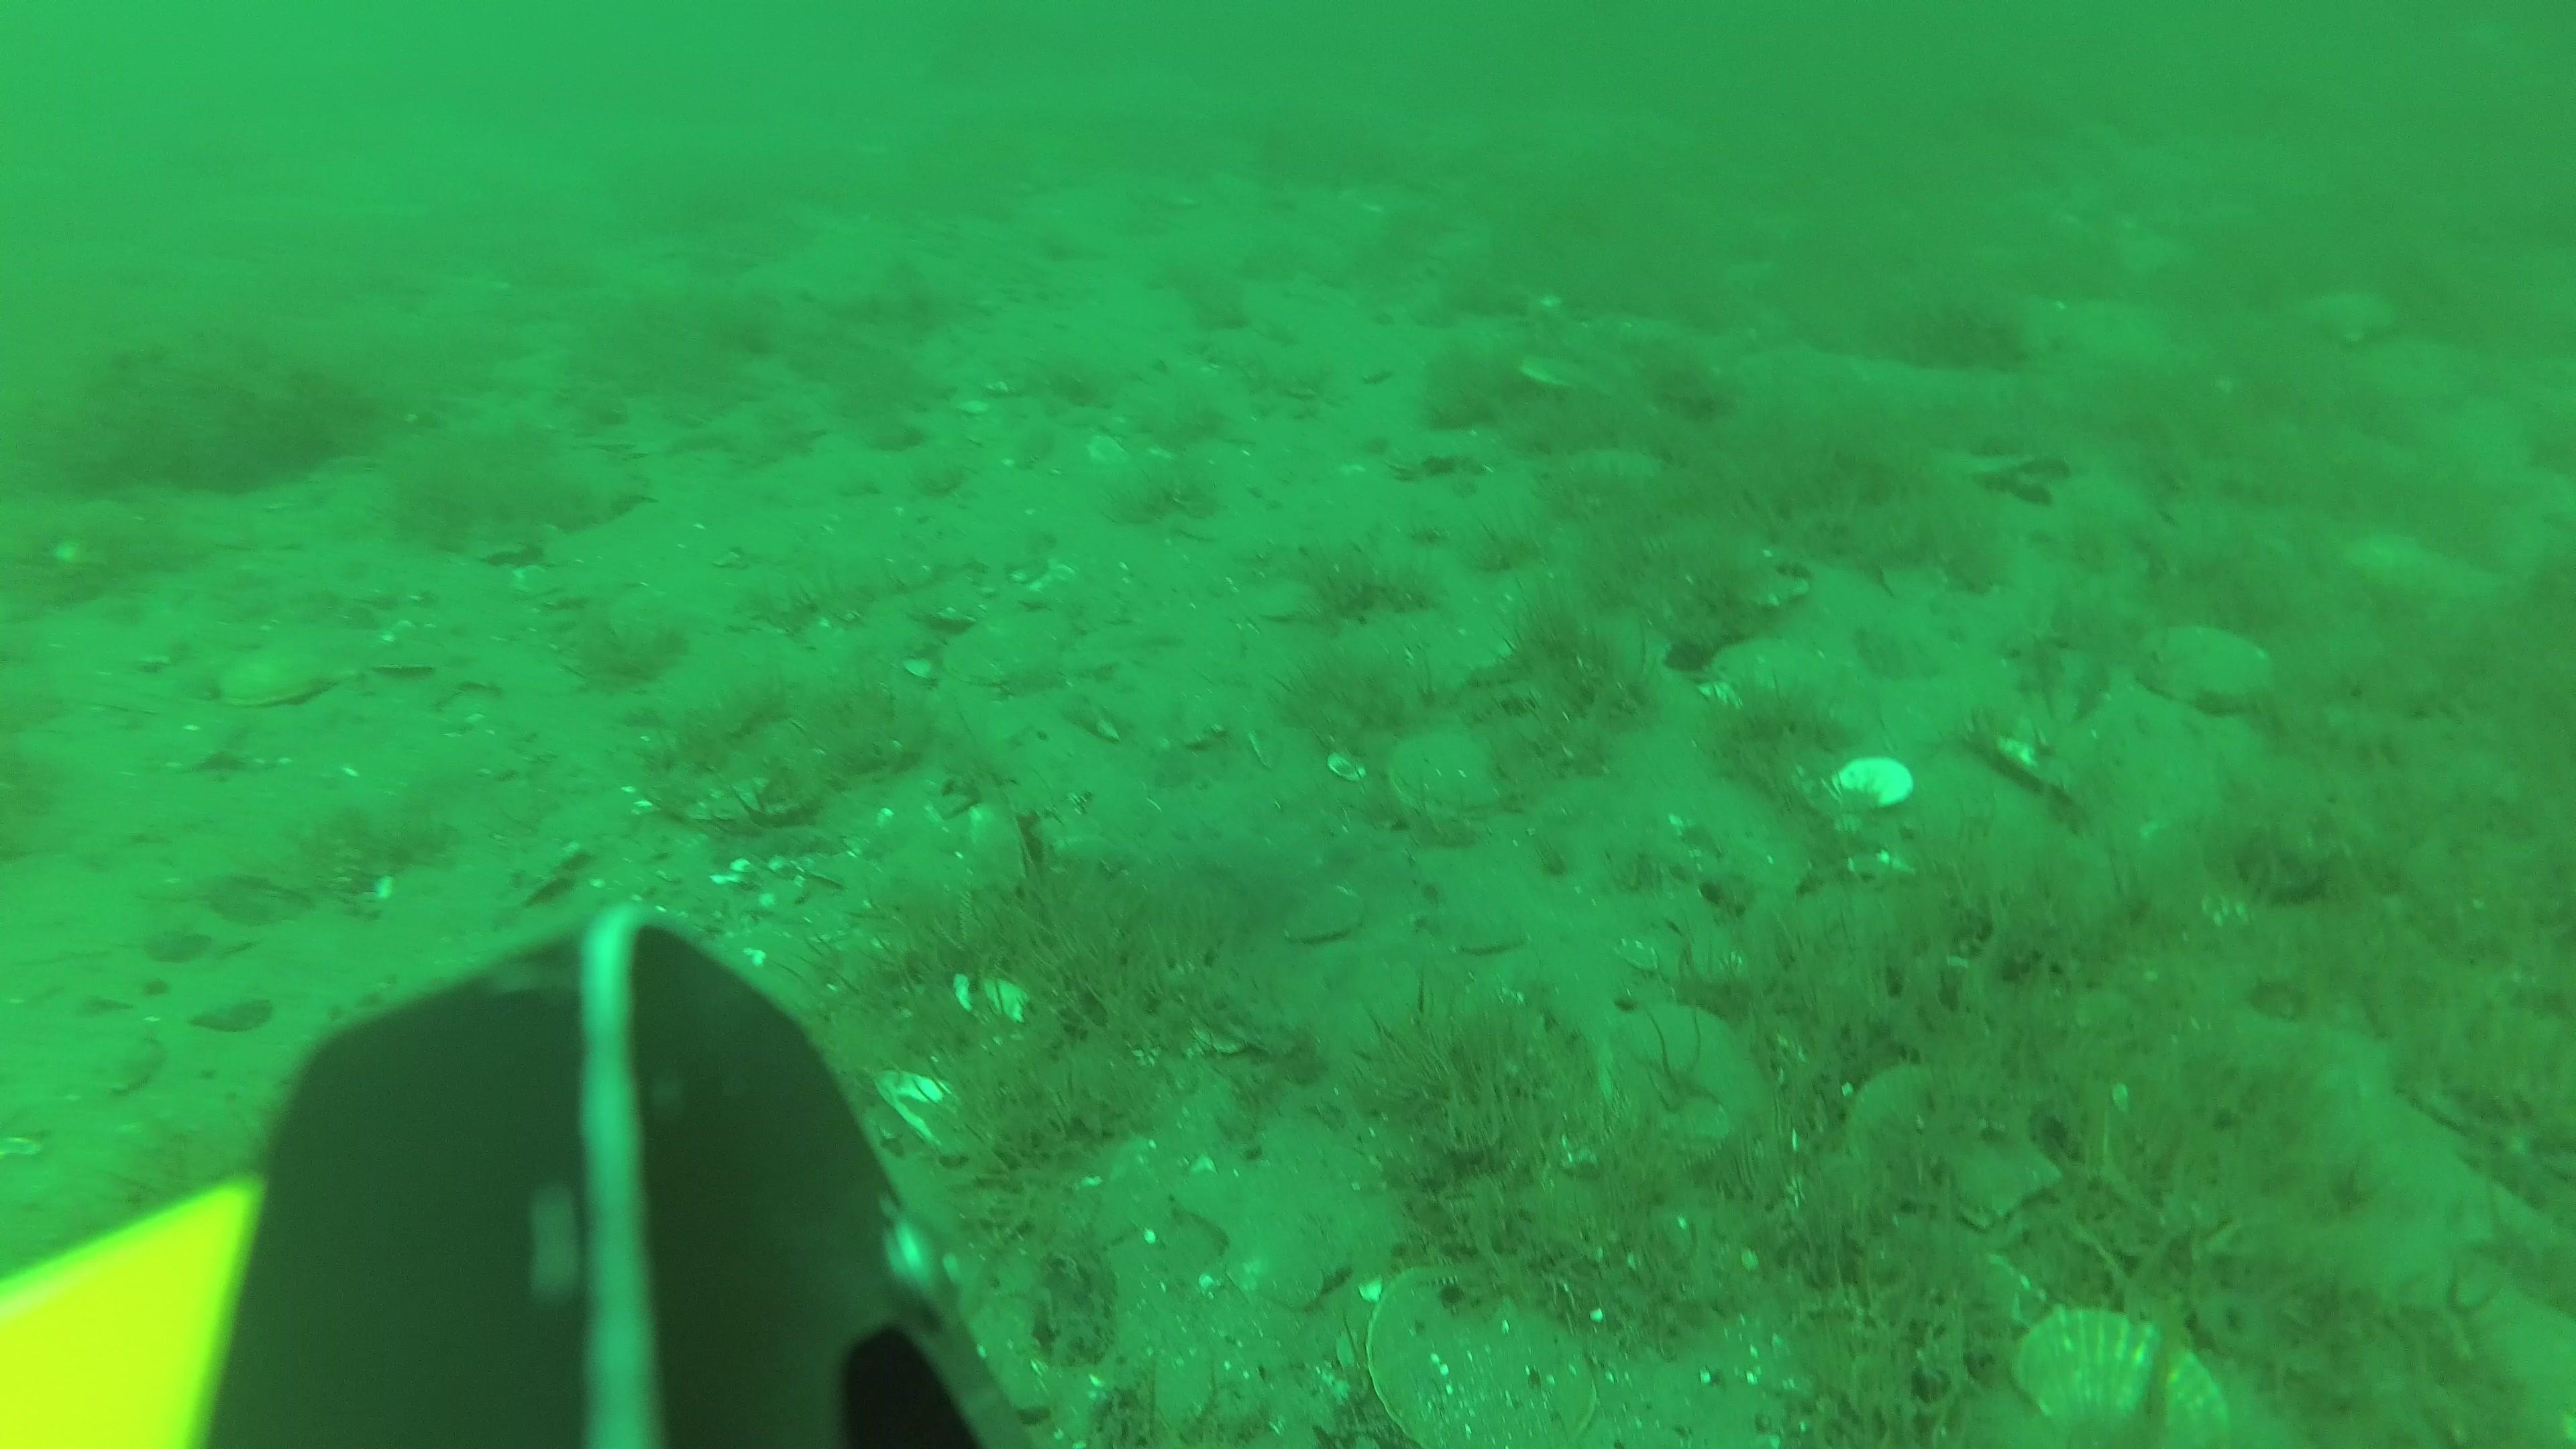scallop: (1373, 1256, 1606, 1449), (1849, 1053, 2070, 1233), (2012, 1297, 2243, 1449), (1638, 515, 1819, 612), (1382, 729, 1523, 830), (1704, 628, 1865, 717), (2137, 614, 2282, 709), (938, 600, 1085, 692), (1612, 915, 1748, 993), (212, 644, 354, 715), (2296, 280, 2406, 352), (1822, 757, 1923, 821), (1859, 616, 1944, 688), (1279, 888, 1371, 954), (1449, 909, 1523, 961)
